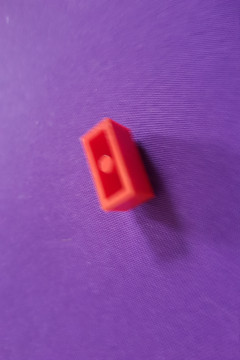1x2 red: (78, 118, 158, 210)
